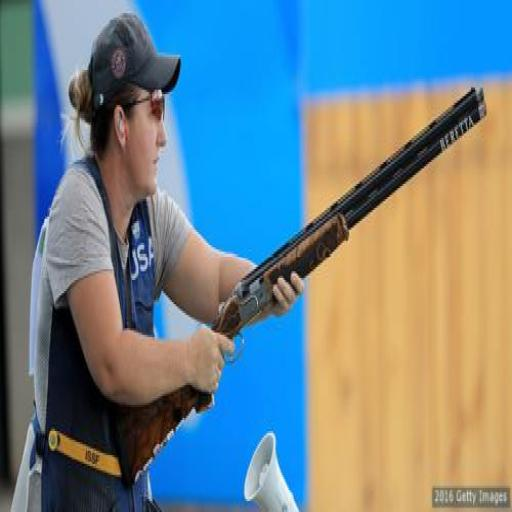shooting: (12, 9, 307, 510)
